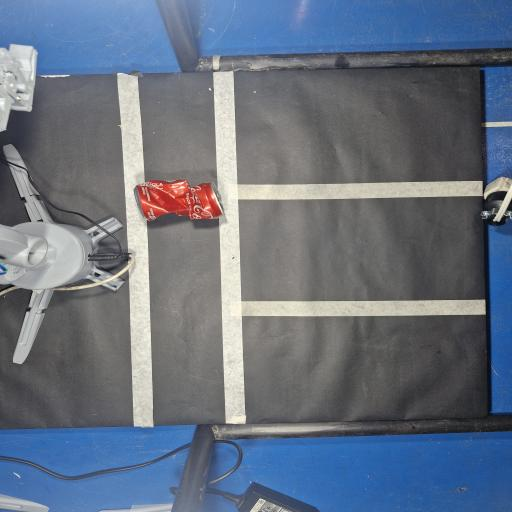lata_defectuoso: (134, 180, 223, 221)
